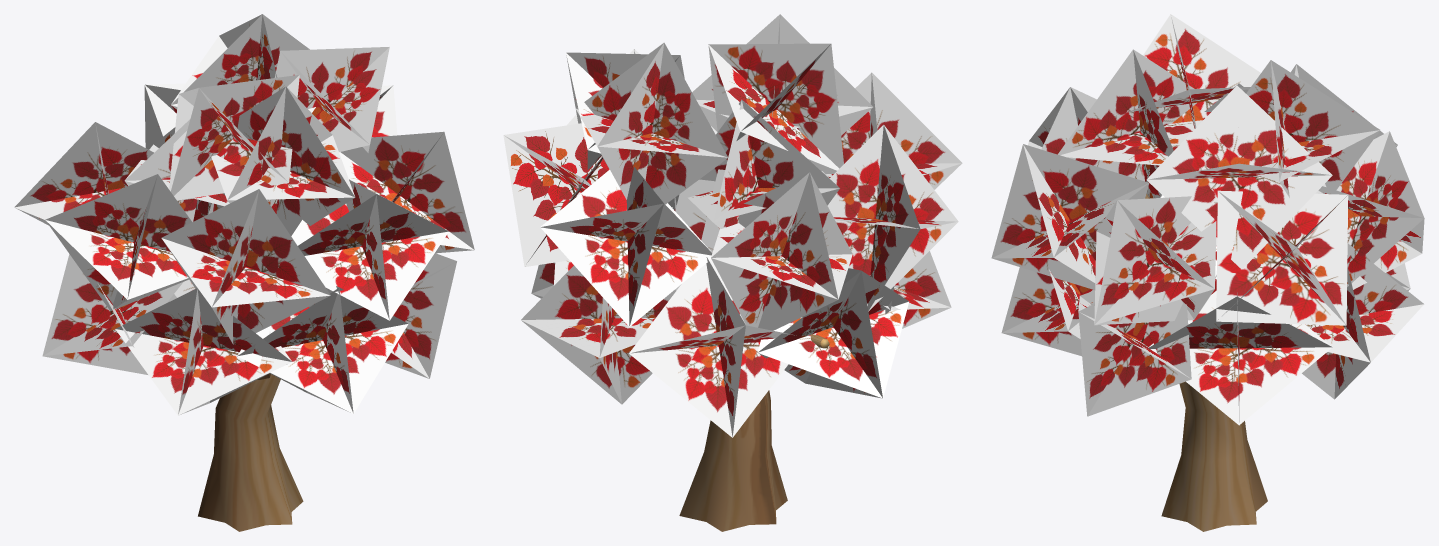
Rendered from Tree_06.FBX.
The picture shows the model from 3 angles, left to right: view 1: azimuth 30°, elevation 25°; view 2: azimuth 150°, elevation 25°; view 3: azimuth 270°, elevation 25°; orthographic projection. The views are drawn at different scales.
Parts seen in each view (by area): view 1: Leaf, Trunk; view 2: Leaf, Trunk; view 3: Leaf, Trunk.
Boxes of the visible parts, x1,y1,x2,y2 form: Leaf: [14, 14, 474, 415]; Trunk: [198, 373, 303, 531]; Leaf: [503, 14, 962, 437]; Trunk: [679, 334, 829, 531]; Leaf: [991, 14, 1424, 425]; Trunk: [1135, 176, 1267, 531].
Bounding box in the file's own units: 365 × 427 × 358.
Materials: 2 (2 with a texture image).
